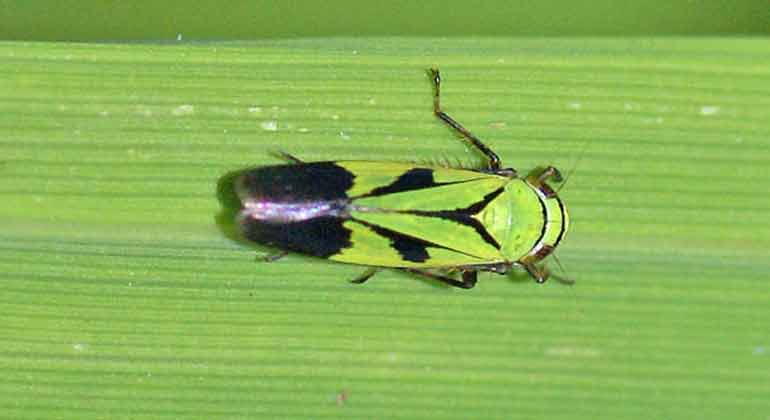Brown_plant_leafhopper: (227, 152, 576, 288)
